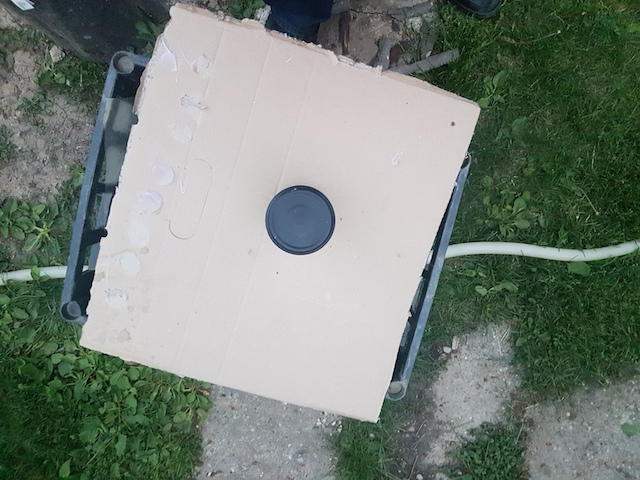recipient: (266, 185, 337, 255)
